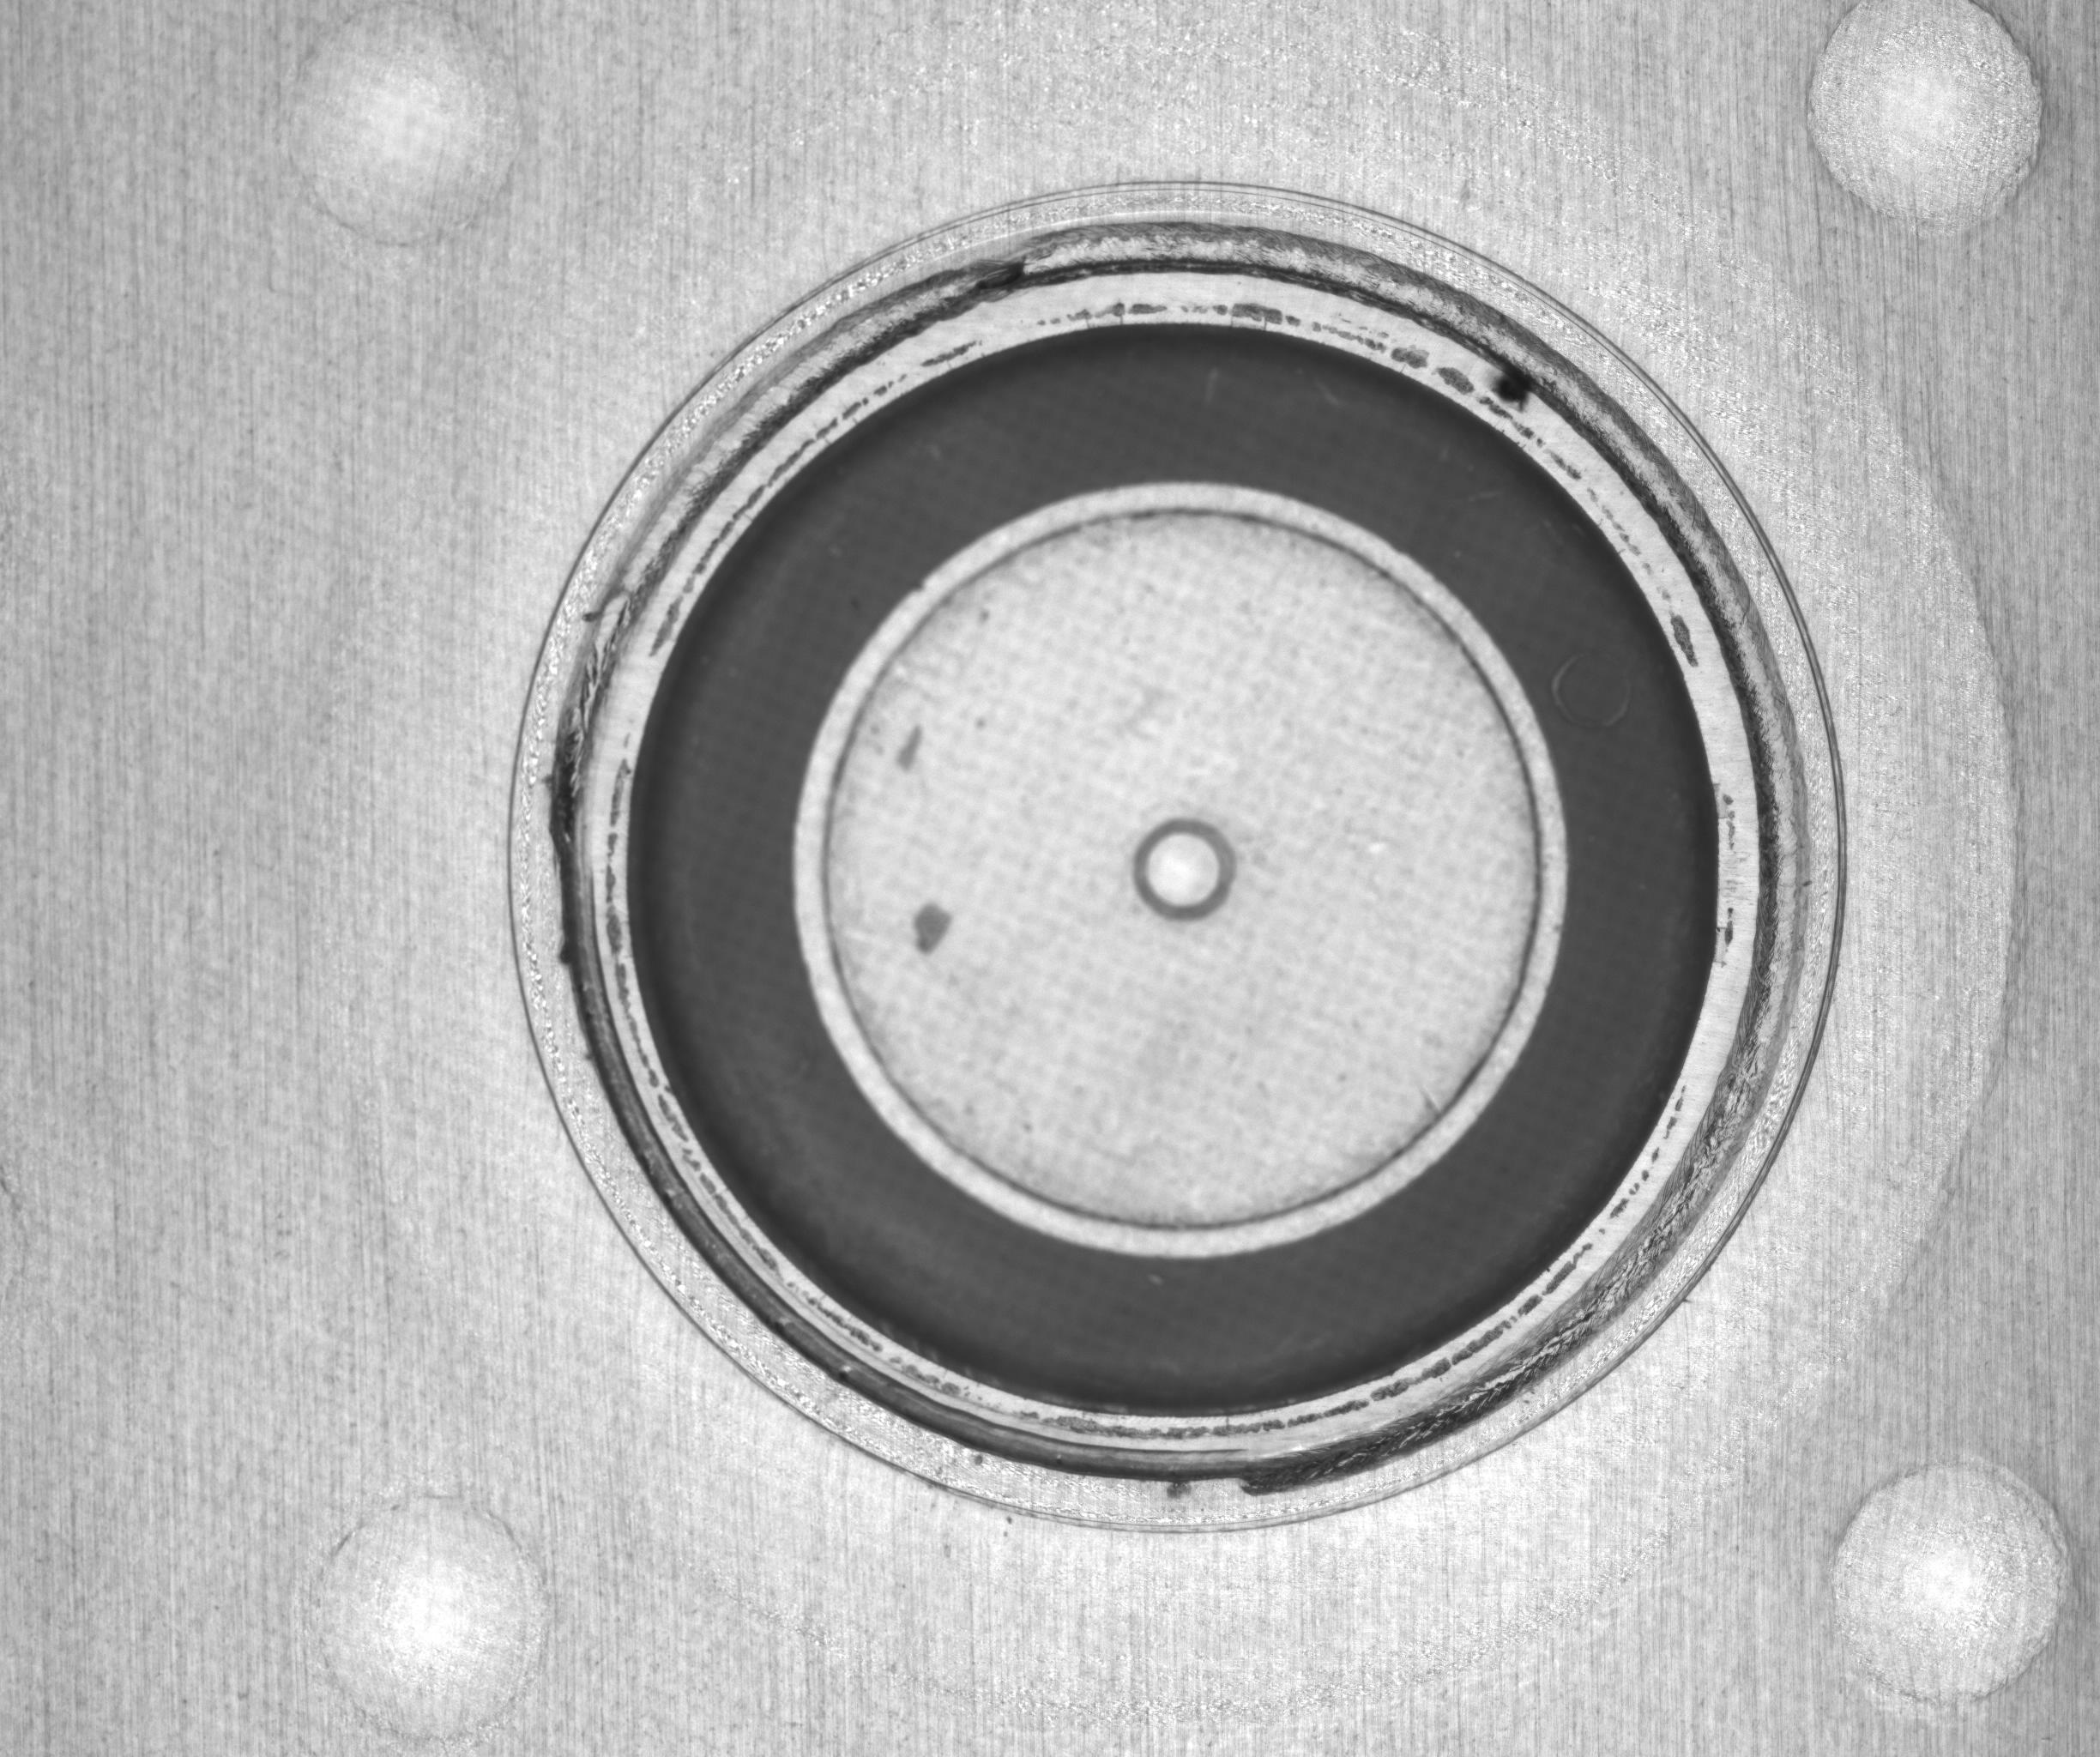lackofweld: (532, 883, 1272, 1520)
